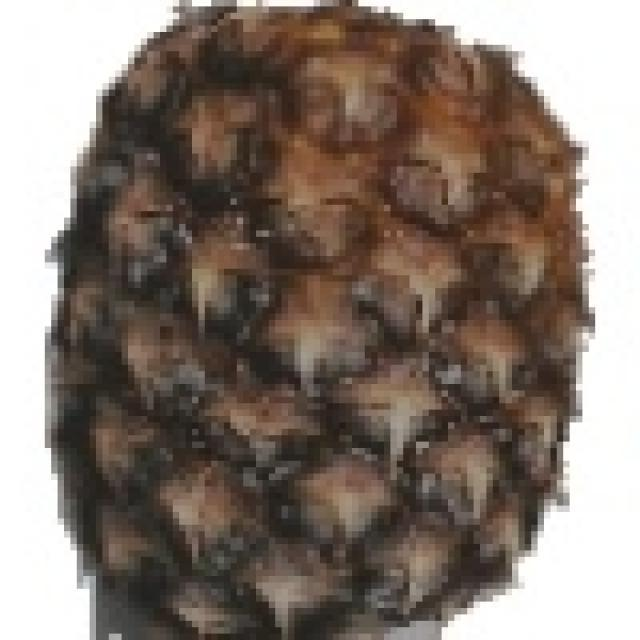pineapple: (50, 0, 590, 640)
